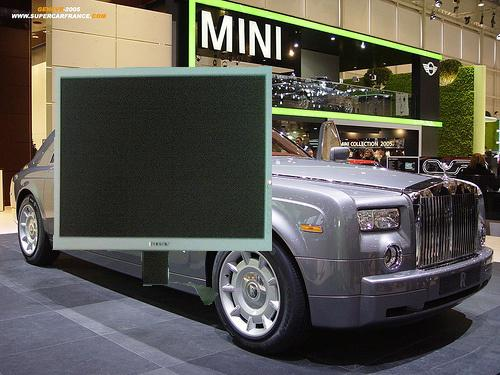tampered: (53, 67, 272, 305)
